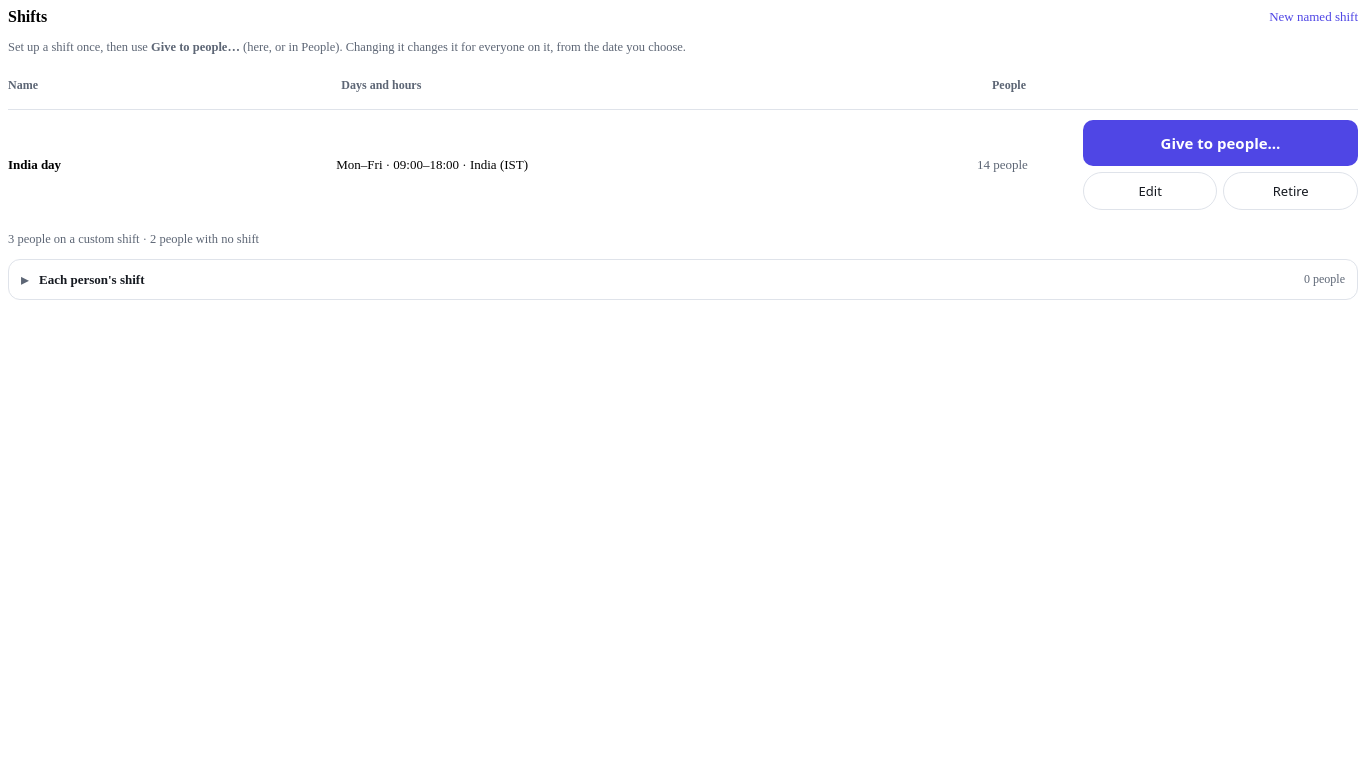
Scenario: Shifts page (ADR-0038 §6) › editing shows how many it changes, from the date, before Apply
Click the button "Edit". click: [1150, 191]
box: left=1083, top=172, right=1218, bottom=210
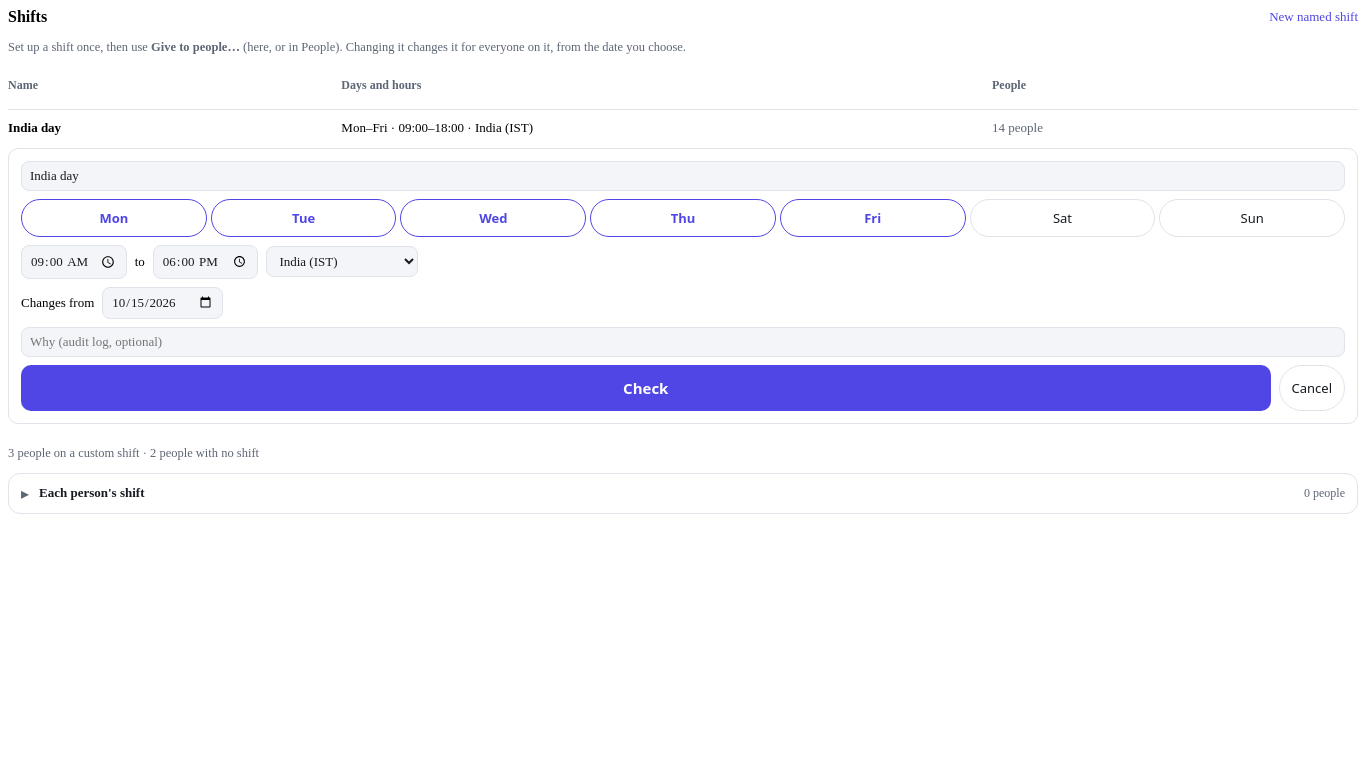
Replace the text in the time field named "shift-start" with "08:00". click: [74, 262]
box: left=21, top=245, right=127, bottom=279
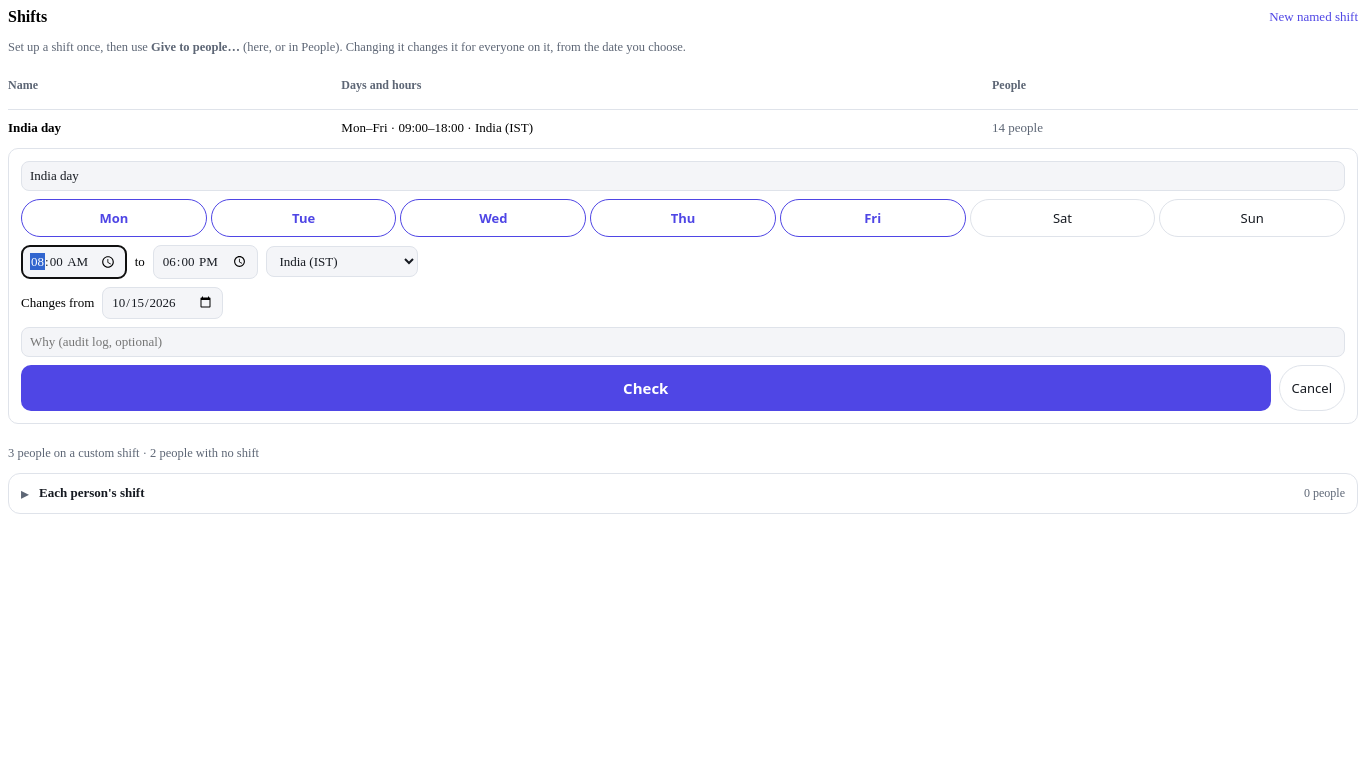
Type "2099-10-19" into the date field named "shift-from". click: [163, 303]
box: left=102, top=287, right=223, bottom=319
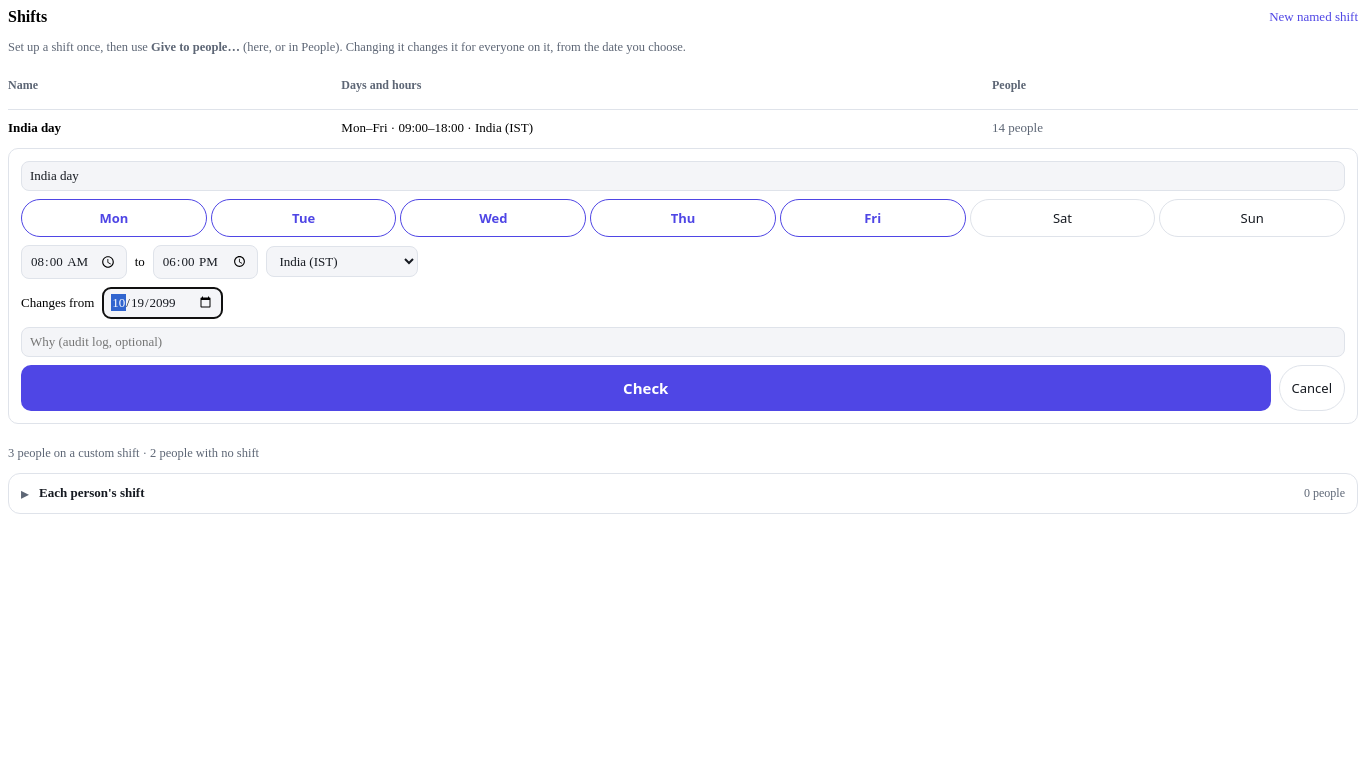
Click the button "Check". click: [646, 388]
box: left=21, top=365, right=1270, bottom=411
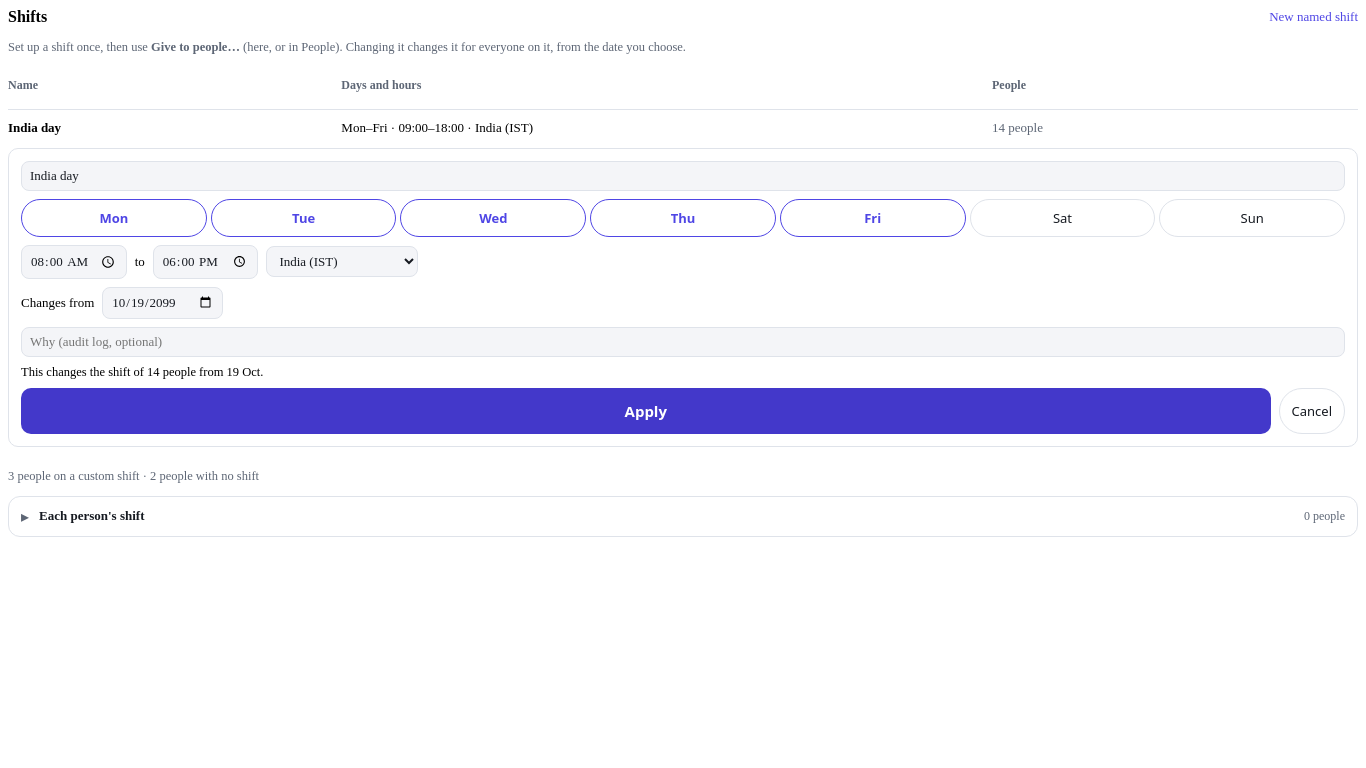
Result: the message named "shift-preview" reads "This changes the shift of 14 people from 19 Oct." at left=21, top=365, right=263, bottom=379
Click the button "Apply". click: [646, 411]
box: left=21, top=388, right=1270, bottom=434
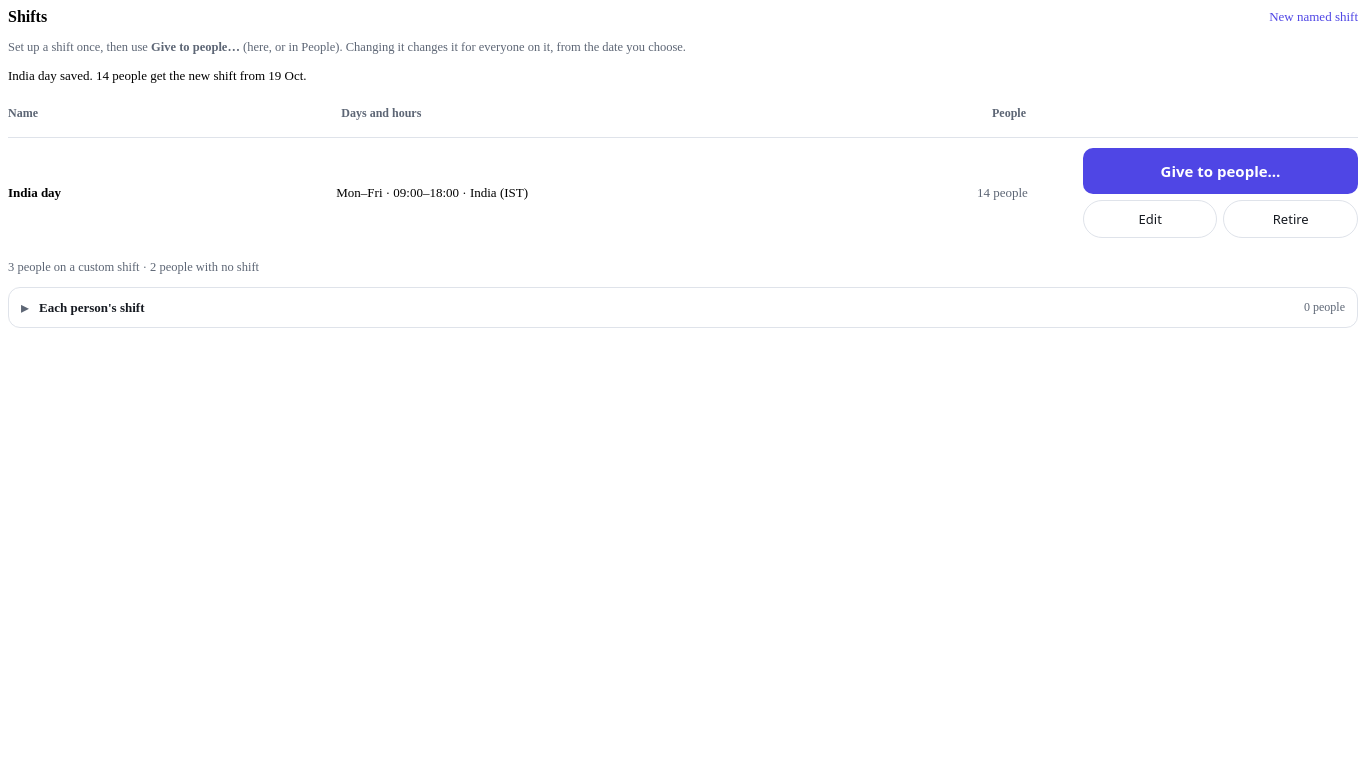
Result: the message reads "India day saved. 14 people get the new shift from 19 Oct." at left=8, top=68, right=307, bottom=83
